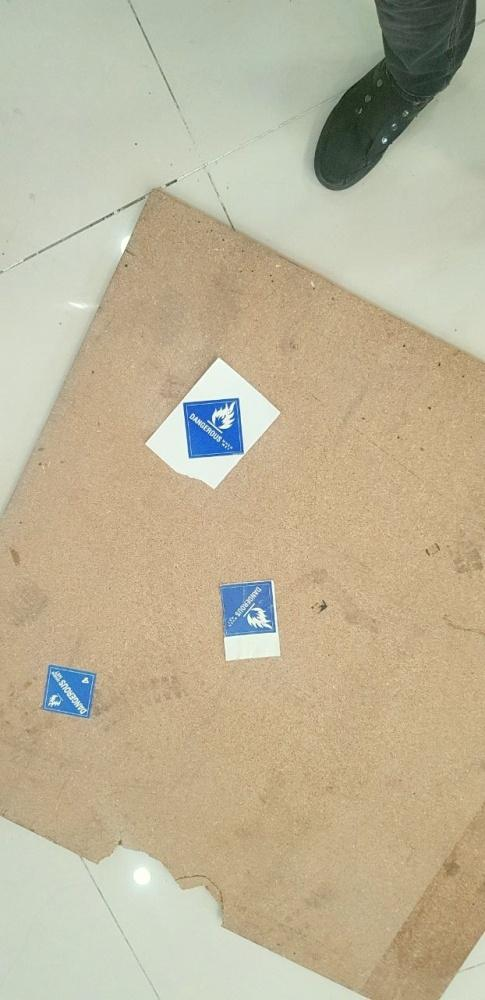dangerous-when-wet: (180, 397, 247, 458), (218, 580, 278, 638), (43, 665, 98, 722)
